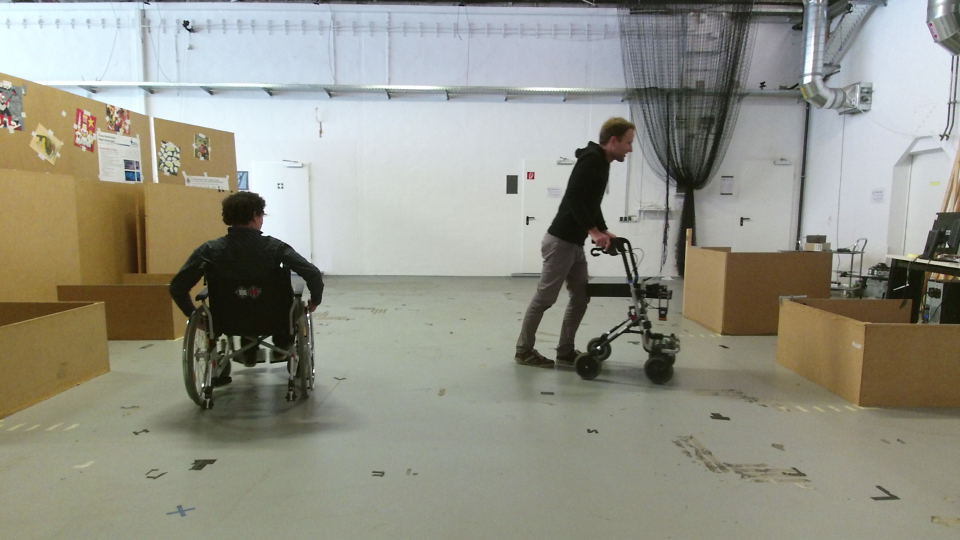wheelchair: (155, 183, 329, 421)
